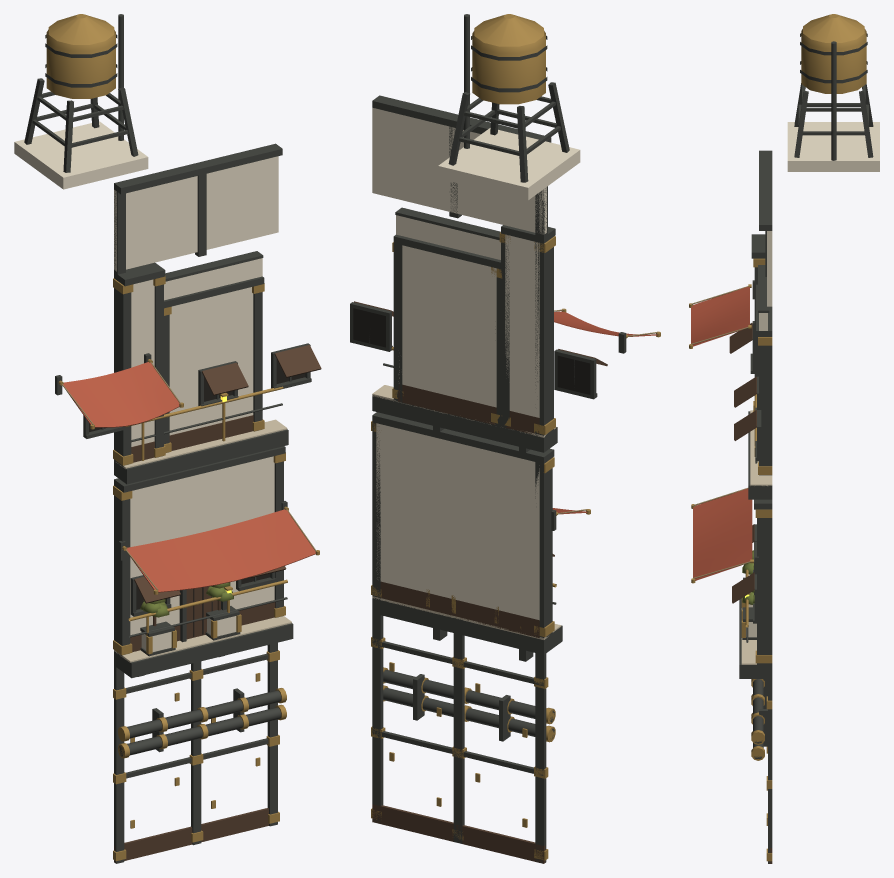
File: terrace_4.glb
3 renders of one model, left to right at view 1: azimuth 30°, elevation 25°; view 2: azimuth 150°, elevation 25°; view 3: azimuth 270°, elevation 25°, orthographic. The views are drawn at different scales.
Visible parts, largest first — view 1: terrace_4; view 2: terrace_4; view 3: terrace_4.
Part boxes in pixels (box(x1,y1,x2,y2)): terrace_4: box(14, 14, 321, 863); terrace_4: box(350, 14, 660, 863); terrace_4: box(689, 14, 879, 863).
Size of the model in its own units: 6.32 by 19.43 by 4.35.
